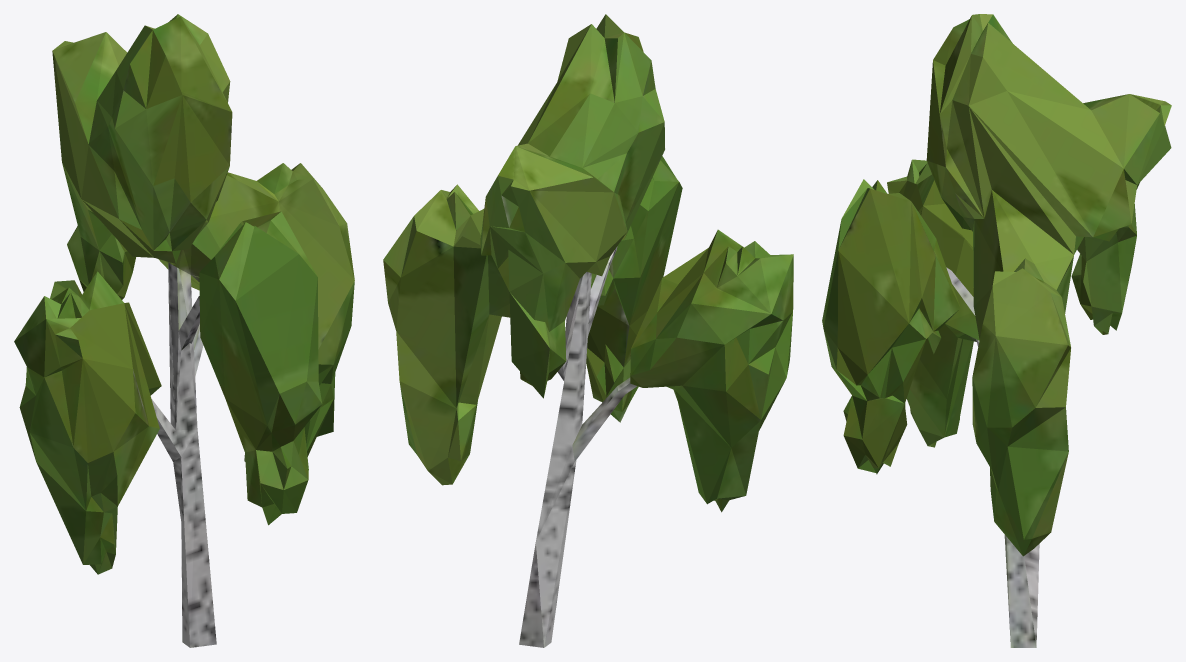
File: tree_10.glb
3 renders of one model, left to right at view 1: azimuth 30°, elevation 25°; view 2: azimuth 150°, elevation 25°; view 3: azimuth 270°, elevation 25°, orthographic. The views are drawn at different scales.
Parts seen in each view (by area): view 1: _10_tree__10_tree_0; view 2: _10_tree__10_tree_0; view 3: _10_tree__10_tree_0.
Boxes of the visible parts, x1,y1,x2,y2 form: _10_tree__10_tree_0: [14, 14, 354, 647]; _10_tree__10_tree_0: [383, 14, 793, 647]; _10_tree__10_tree_0: [822, 14, 1171, 647].
Size of the model in its own units: 6.44 by 11 by 5.74.
1 material, 1 textured.
